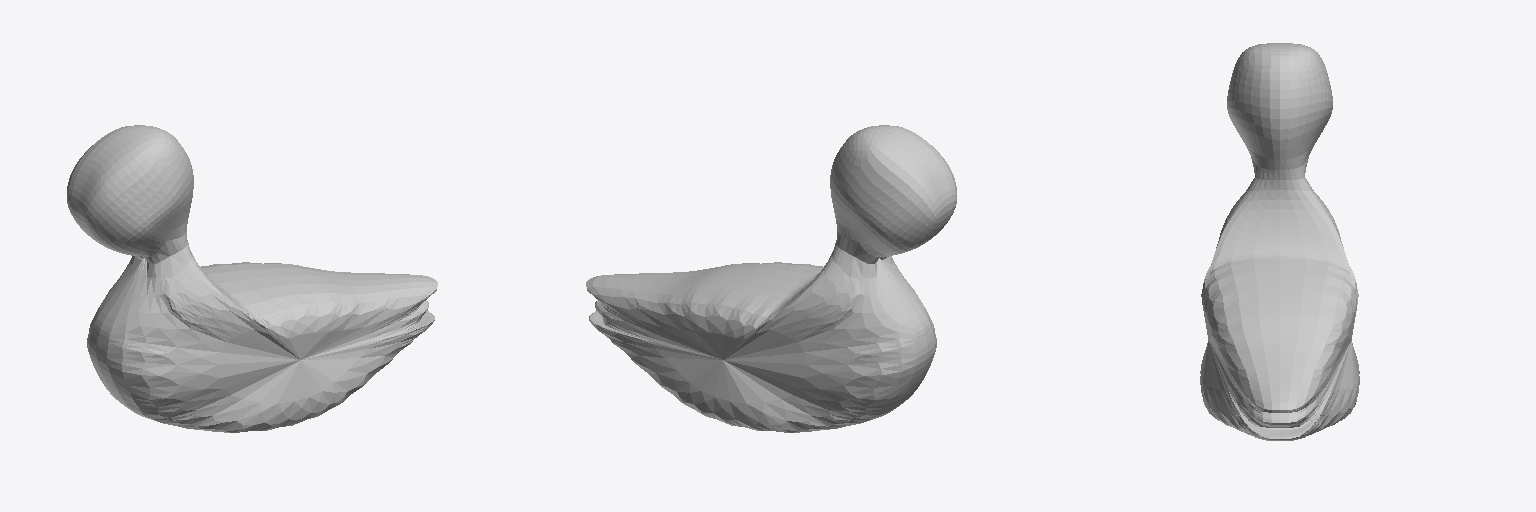
Rendered from duck-body.obj.
The picture shows the model from 3 angles: view 1: azimuth 30°, elevation 25°; view 2: azimuth 150°, elevation 25°; view 3: azimuth 270°, elevation 25°; orthographic projection.
Parts seen in each view (by area): view 1: Cylinder; view 2: Cylinder; view 3: Cylinder.
Boxes of the visible parts, <box> form: Cylinder: <box>67,125,437,432</box>; Cylinder: <box>586,125,956,432</box>; Cylinder: <box>1200,43,1359,440</box>.
Size of the model in its own units: 3.73 by 3.04 by 1.44.